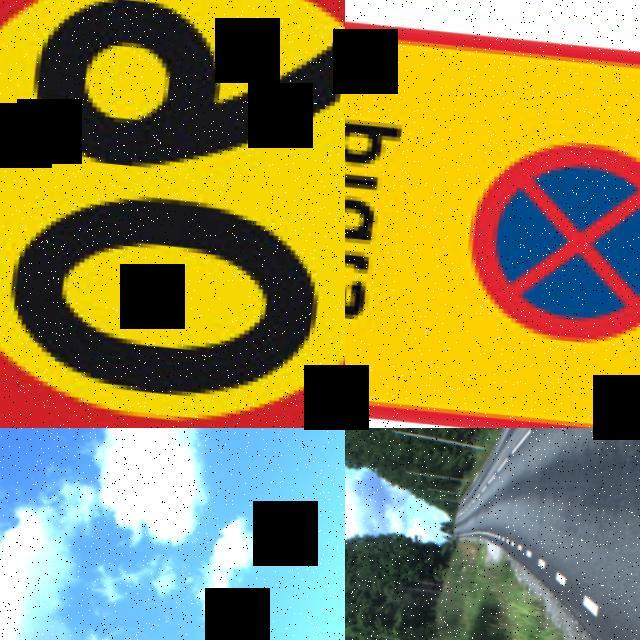177: (345, 0, 640, 428)
speed limit-90: (0, 0, 345, 428)
